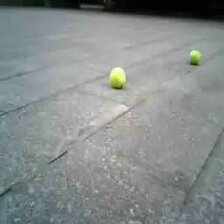tennis: (109, 67, 126, 88), (189, 50, 202, 64)
